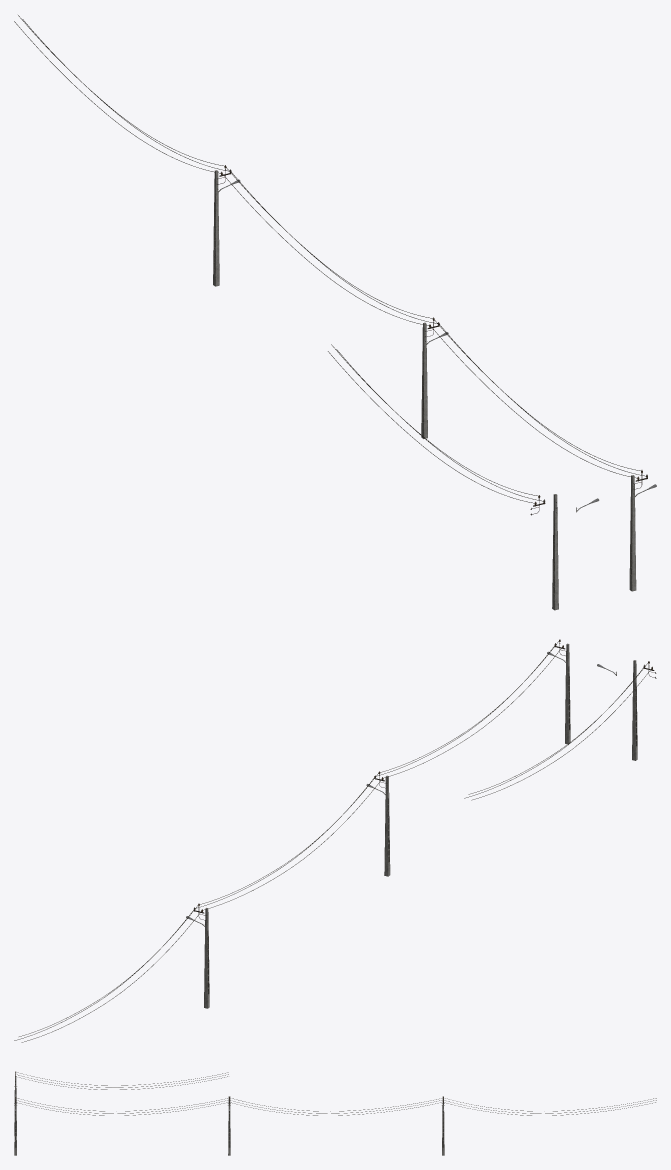
File: lampMod_01.glb
3 views of the same model, one above another, from view 1: azimuth 30°, elevation 25°; view 2: azimuth 150°, elevation 25°; view 3: azimuth 270°, elevation 25° (orthographic). The views are drawn at different scales.
Visible parts, largest first — view 1: geometry_0; view 2: geometry_0; view 3: geometry_0.
Part boxes in pixels (x1=…): geometry_0: x1=14, y1=15, x2=647, y2=610; geometry_0: x1=14, y1=639, x2=656, y2=1042; geometry_0: x1=14, y1=1071, x2=656, y2=1155.
Bounding box in the file's own units: 0.7162 × 0.6386 × 6.14.
2 materials, 2 textured.
